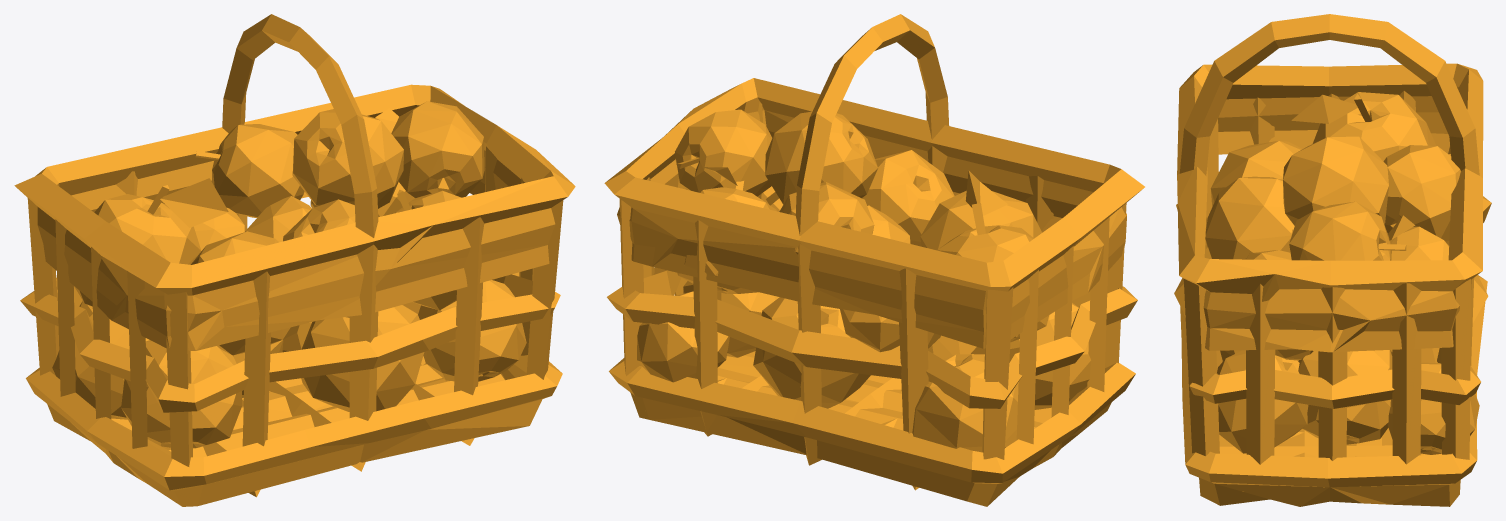
Rendered from SM_Basket_Apples_Yellow_Fantasy_A.fbx.
3 renders of one model, left to right at view 1: azimuth 30°, elevation 25°; view 2: azimuth 150°, elevation 25°; view 3: azimuth 270°, elevation 25°, orthographic. The views are drawn at different scales.
Visible parts, largest first — view 1: basket-apples-yellow-fantasy-a; view 2: basket-apples-yellow-fantasy-a; view 3: basket-apples-yellow-fantasy-a.
Boxes of the visible parts, bbox=[...] form: basket-apples-yellow-fantasy-a: bbox=[14, 14, 575, 506]; basket-apples-yellow-fantasy-a: bbox=[604, 14, 1144, 506]; basket-apples-yellow-fantasy-a: bbox=[1174, 14, 1491, 506].
Bounding box in the file's own units: 0.5434 × 0.4831 × 0.3412.
